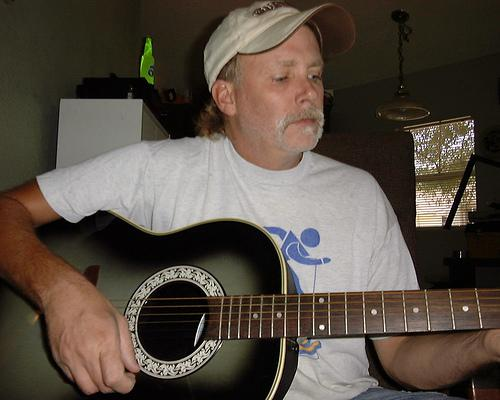person: (2, 3, 500, 400)
